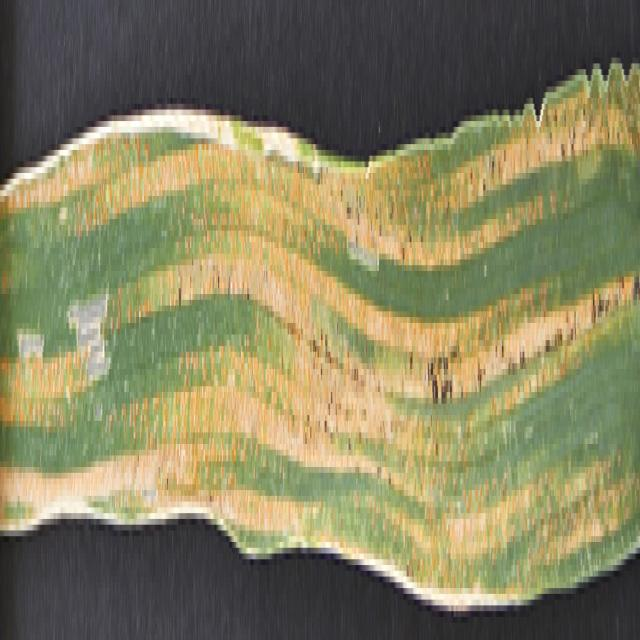leaf rust: (1, 69, 640, 565)
